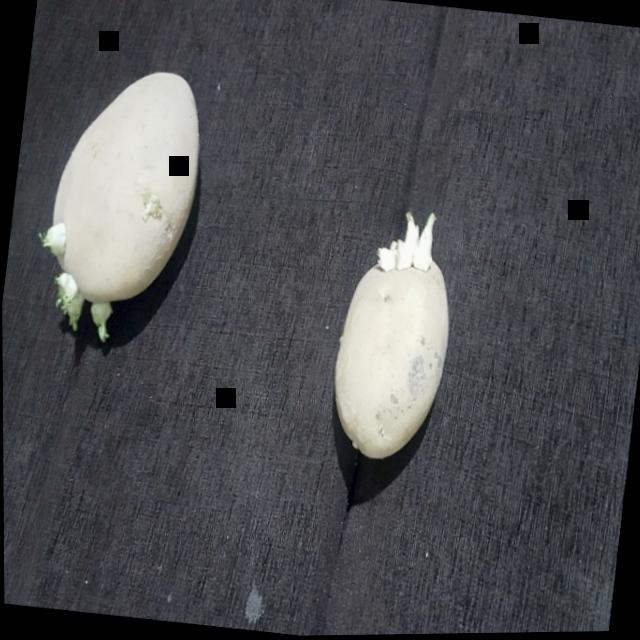potato: (28, 42, 238, 359), (310, 204, 478, 480)
